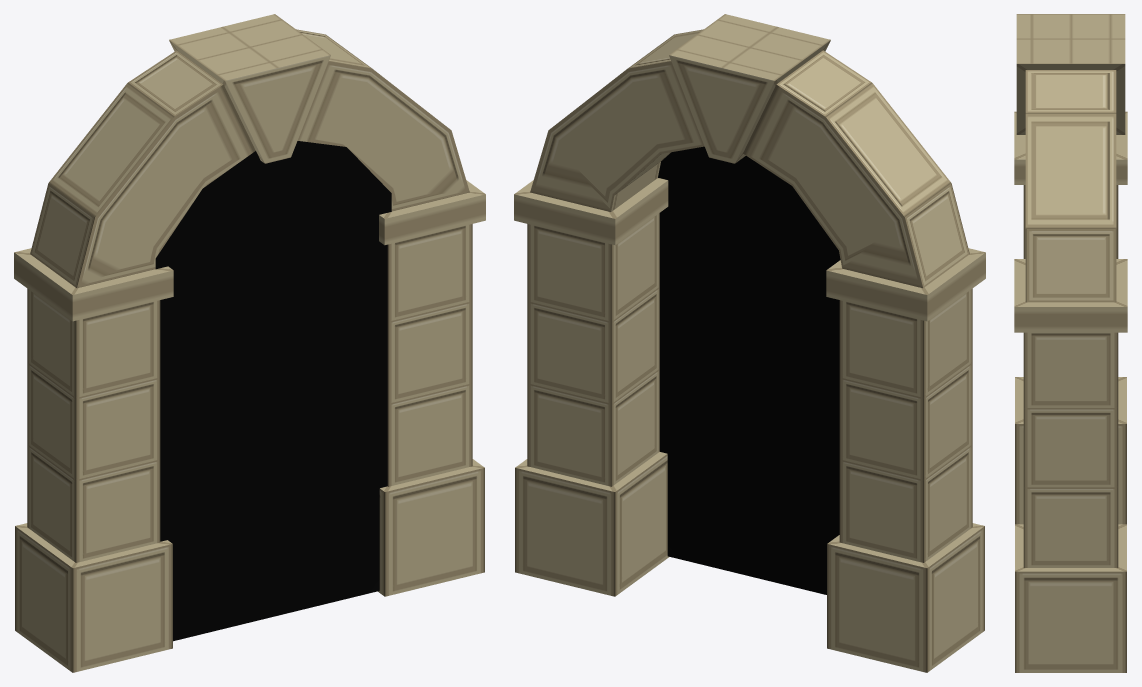
File: env_door.gltf
3 views of the same model, side by side, from view 1: azimuth 30°, elevation 25°; view 2: azimuth 150°, elevation 25°; view 3: azimuth 270°, elevation 25° (orthographic). The views are drawn at different scales.
Visible parts, largest first — view 1: Door, Portal; view 2: Door, Portal; view 3: Door.
Boxes of the visible parts, bbox=[...] form: Door: bbox=[14, 14, 485, 672]; Portal: bbox=[155, 141, 391, 641]; Door: bbox=[514, 14, 985, 672]; Portal: bbox=[658, 146, 840, 594]; Door: bbox=[1014, 14, 1127, 672].
Size of what is drawn, in the model's own units: 7.91 by 10.13 by 1.94.
Materials: 1 (1 with a texture image).
